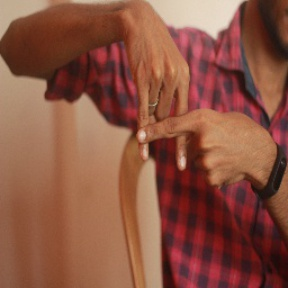H: (108, 69, 221, 187)
